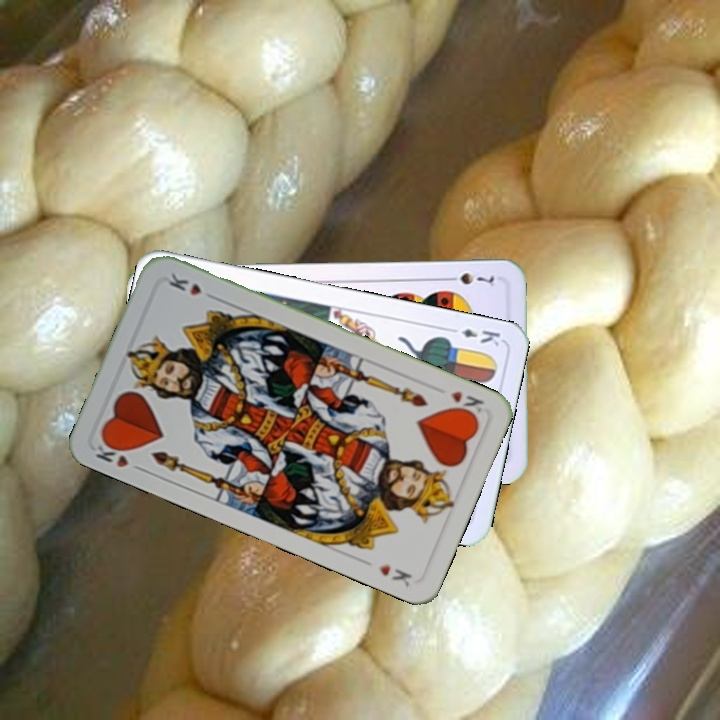EK: (444, 323, 503, 349)
HK: (91, 435, 147, 475), (446, 387, 488, 421)
S7: (441, 269, 497, 289)
